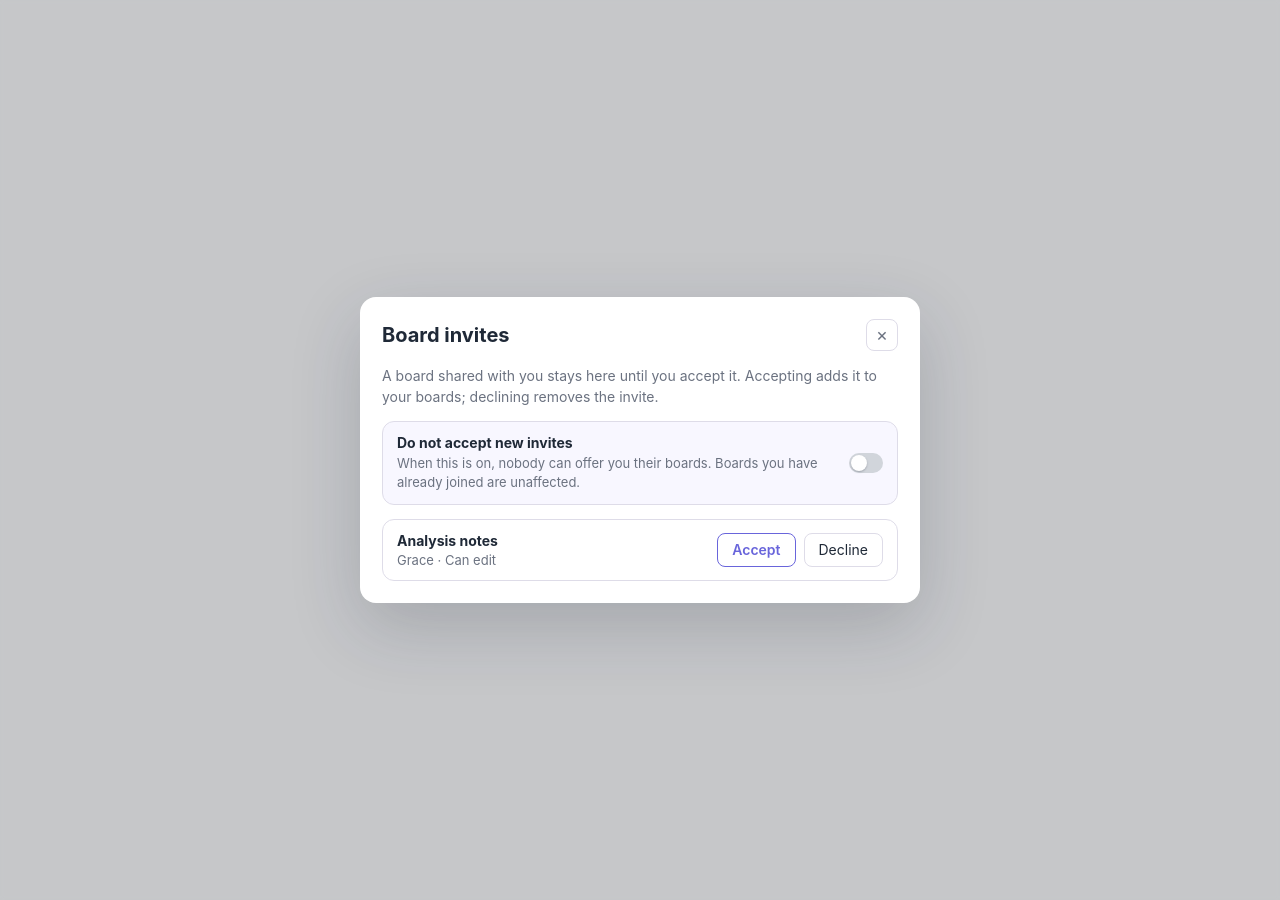
Test: BoardInvites › keeps the new-invite preference with the invitations it controls
Click the switch named "Do not accept new invites" at x=866, y=463, box 849,453 -> 883,473
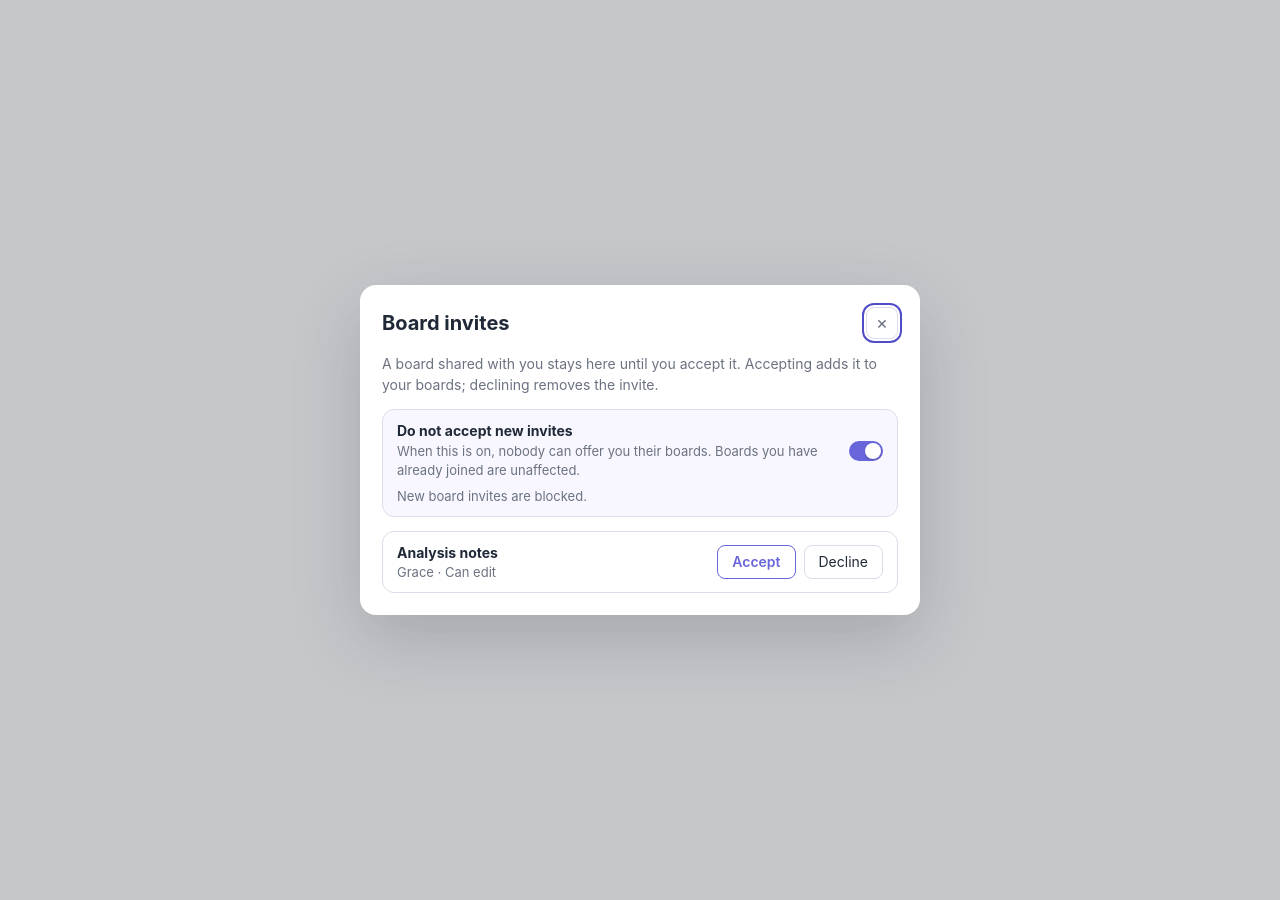
Check: the text "New board invites are blocked." is shown, box 397,488 -> 587,504
